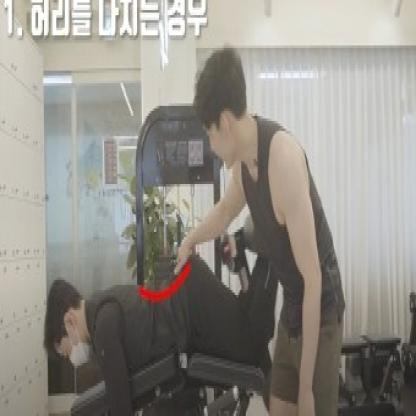reg curl machine: (37, 91, 281, 416)
